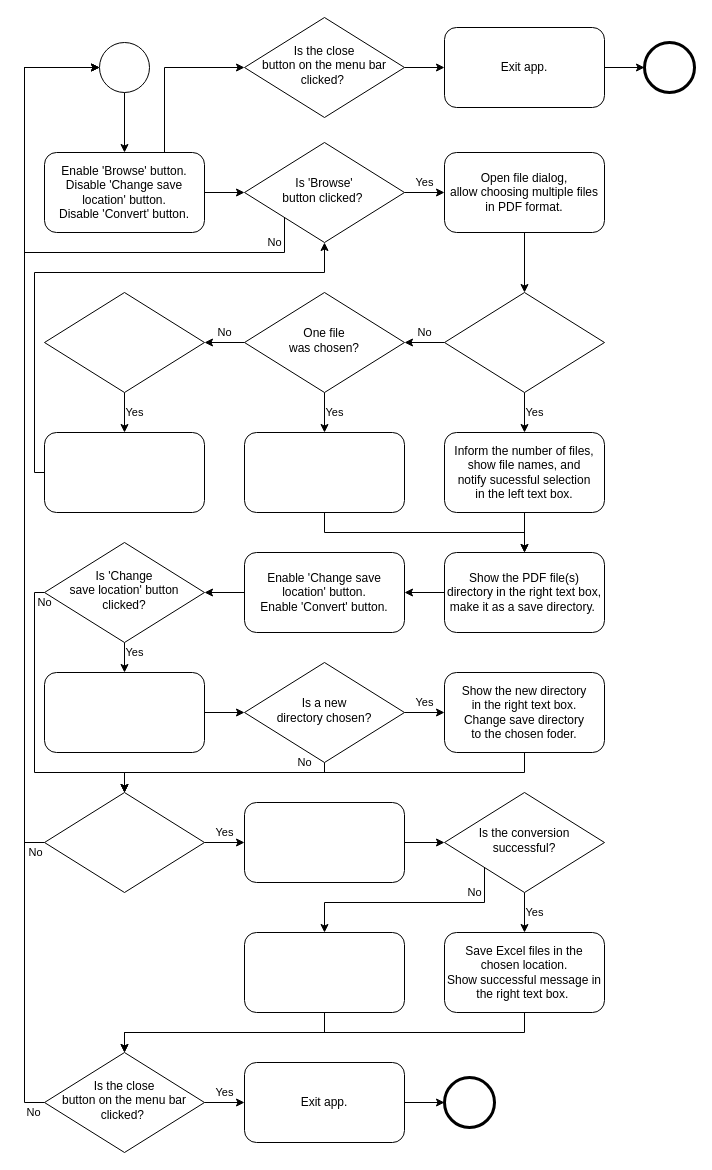
Image size: 712x1170. Some labels were removed from this diagram. The box of each missing label's shape, as (x1, y1, x2, y2) in pixels:
Is the 'Convert' button clicked?: (44, 792, 204, 892)
Multiple files were chosen?: (444, 292, 604, 392)
None file was chosen?: (44, 292, 204, 392)
Open file dialog, let users choose a folder.: (44, 672, 204, 752)
Show file name and notify sucessful selection in the left text box.: (244, 432, 404, 512)
Show the request of choosing at least one file in the left text box.: (44, 432, 204, 512)
Show unsuccessful message in the right text box, ask users to try again.: (244, 932, 404, 1012)
Start the convert function. Show finish percentage using the progress bar.: (244, 802, 404, 882)
